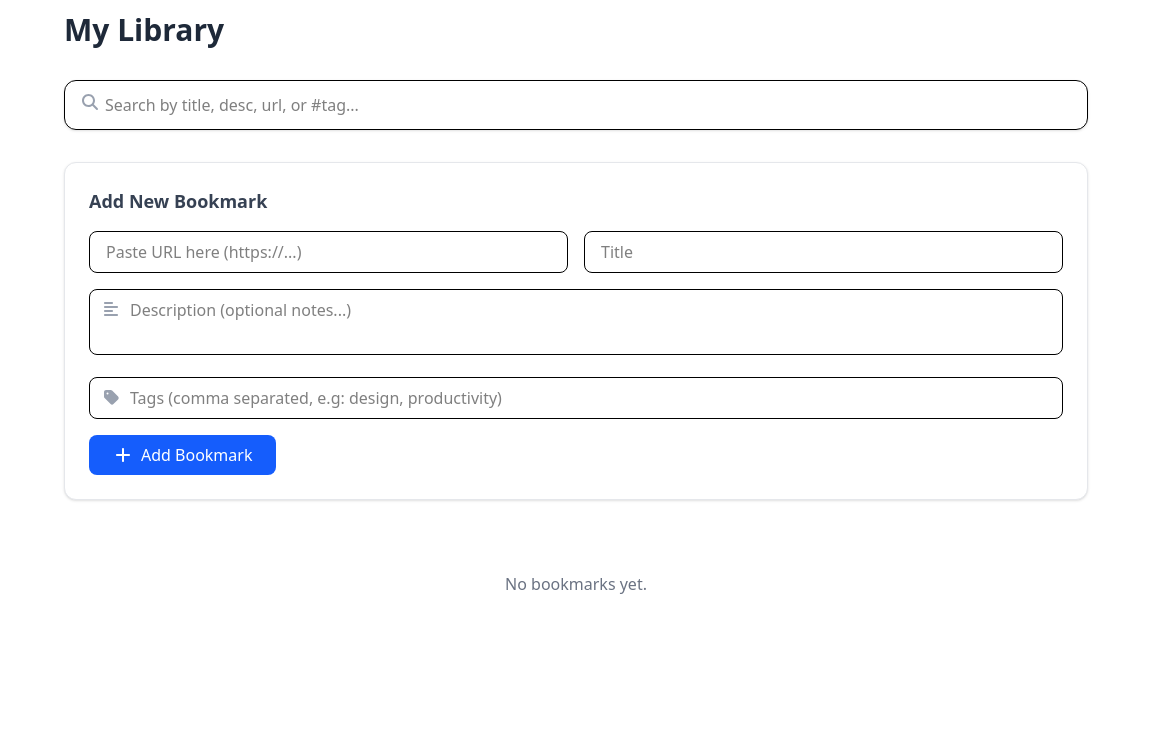
Scenario: BookmarksPage › successfully adds a new bookmark with description
This screenshot has width=1152, height=732.
Expected: the text "No bookmarks yet." is shown, [505,573,647,595]
Type "New Site" into the field with placeholder "Title" at (824, 252), box [584,231,1063,273]
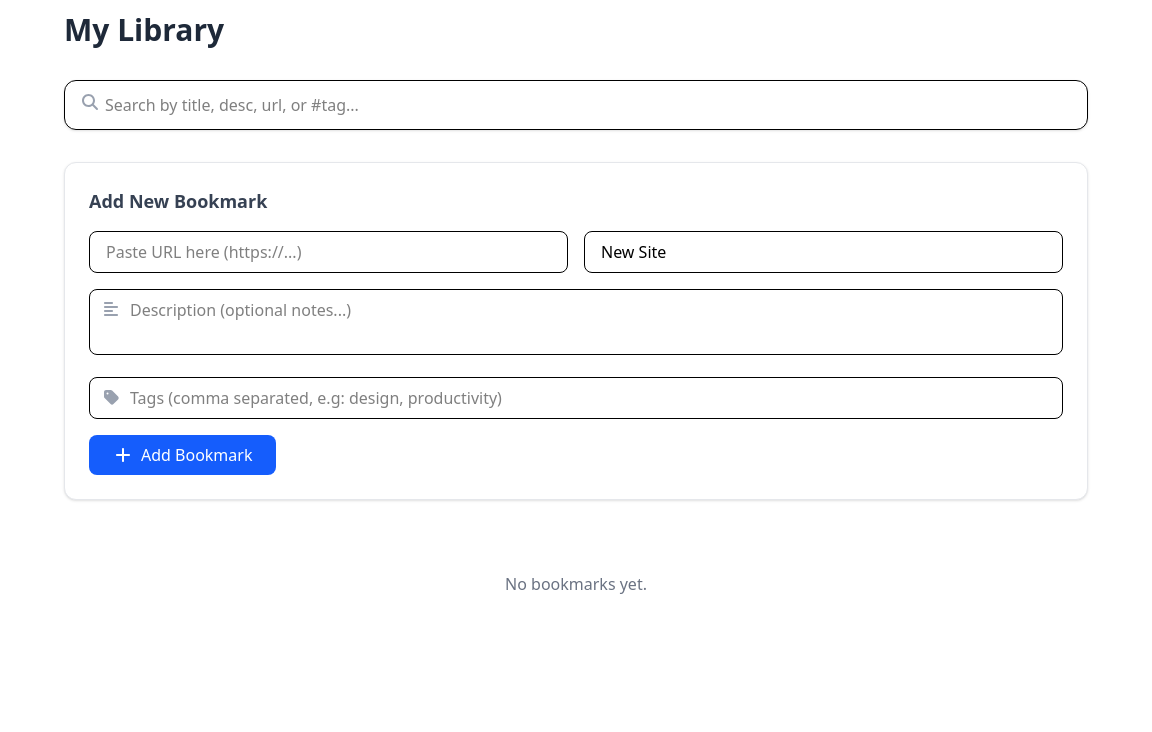
Type "https://new.com" into the field with placeholder "Paste URL here (https://...)" at (328, 252), box [89,231,568,273]
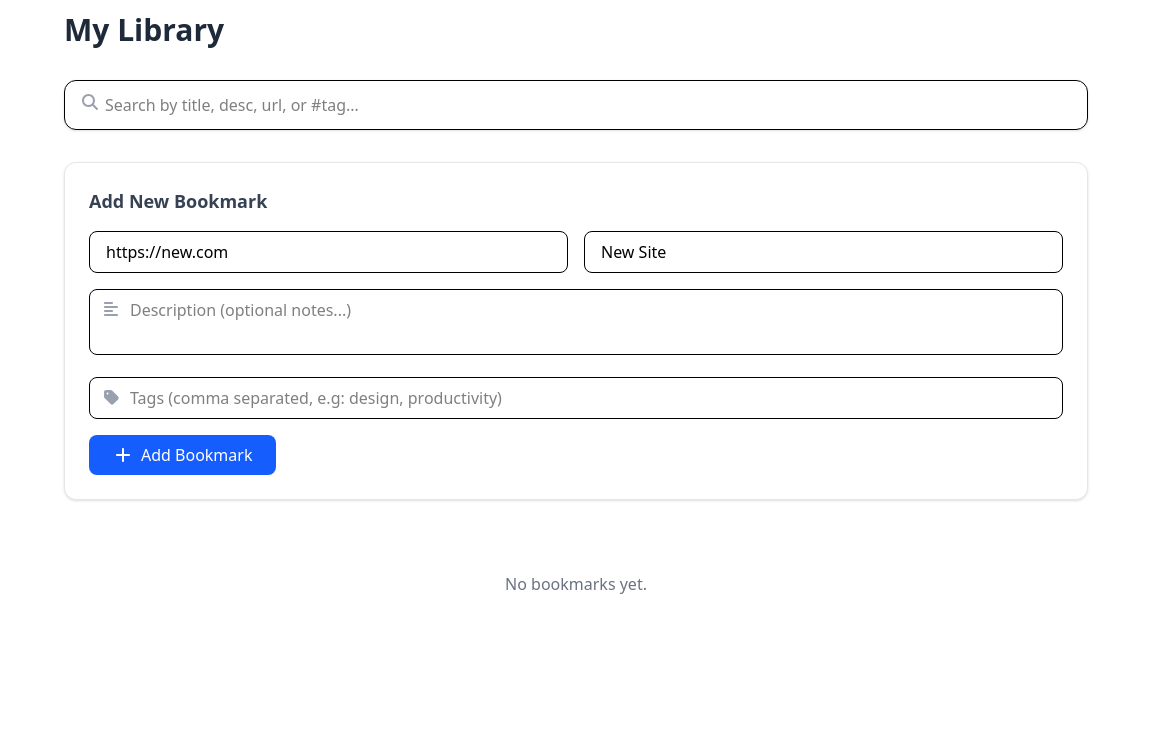
Note: Fill the description textarea
Type "My custom notes" into the text box with placeholder "Description (optional notes...)" at (576, 322), box [89,289,1063,355]
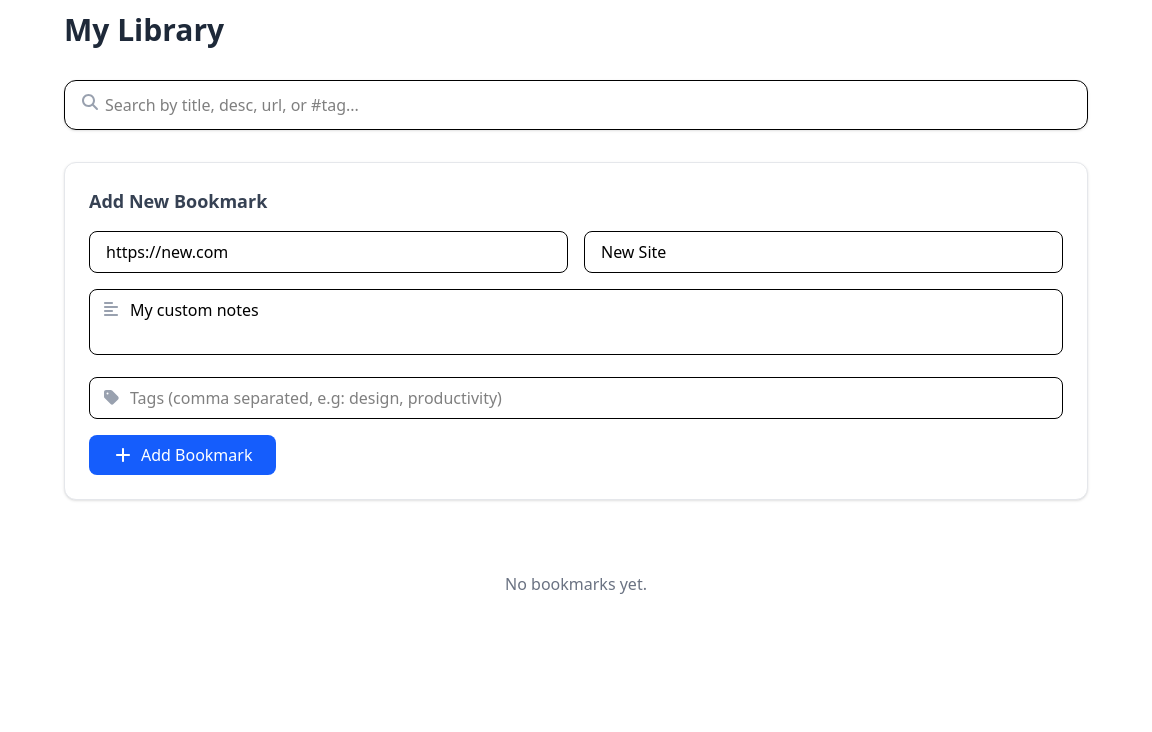
Type "cool" into the field with placeholder "Tags (comma separated, e.g: design, productivity)" at (576, 398), box [89,377,1063,419]
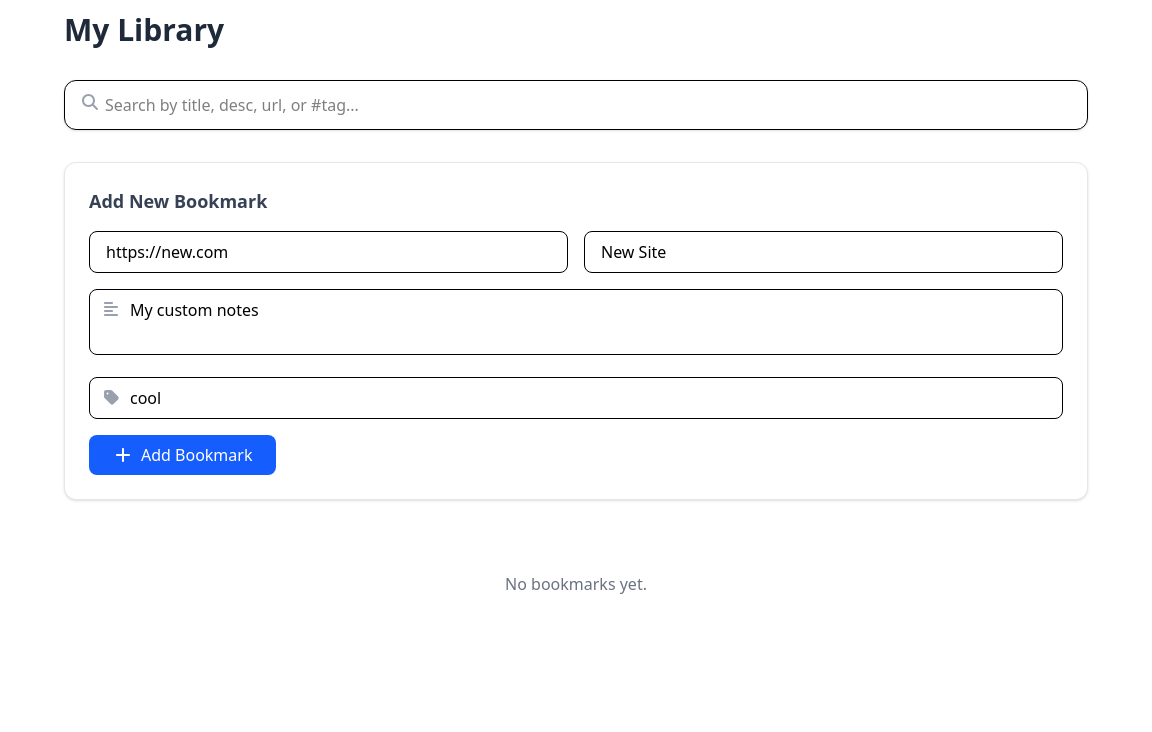
Click the button "Add Bookmark" at (183, 455), box [89,435,276,475]
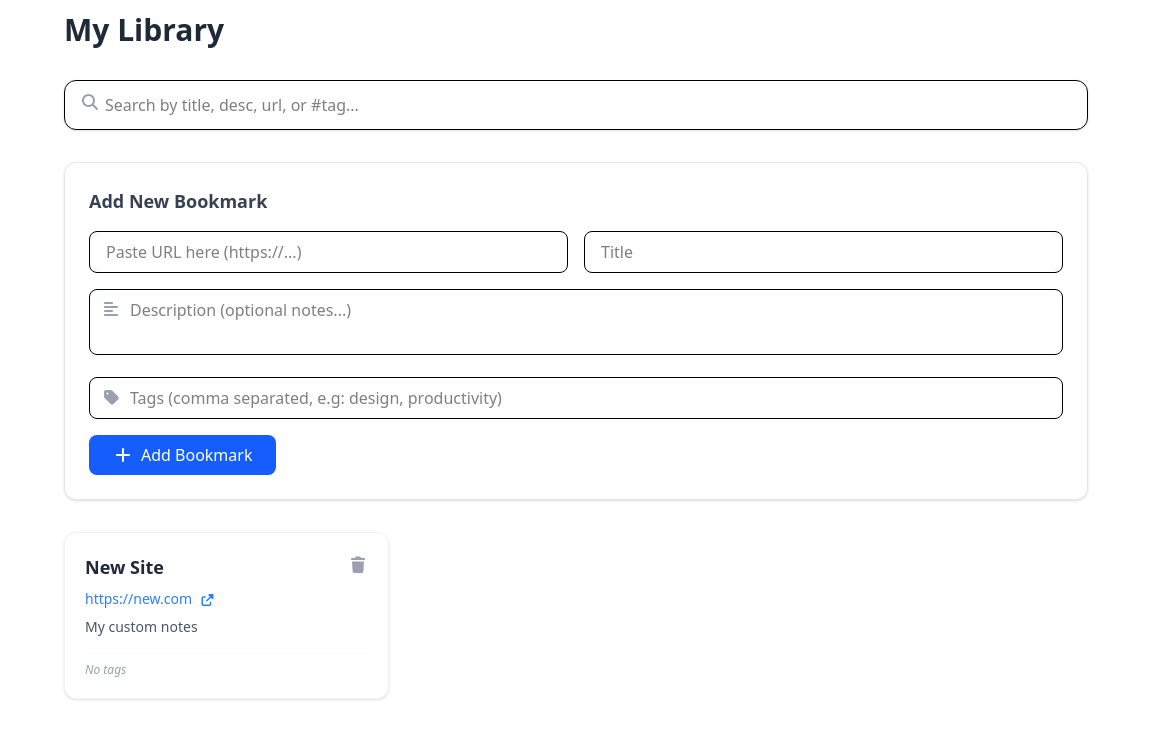
Expected: the heading "New Site" is shown, [85,553,164,581]
Expected: the text "My custom notes" is shown, [85,617,198,636]
